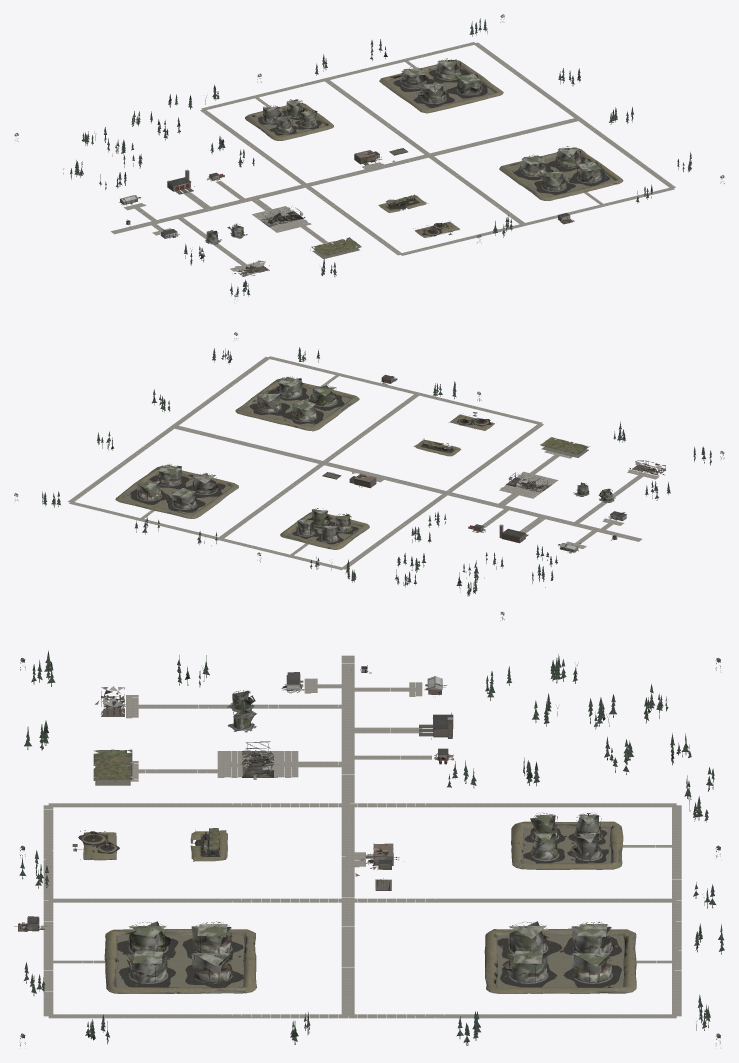
File: site_fuel_w_lo.glb
3 renders of one model, top to bottom at view 1: azimuth 30°, elevation 25°; view 2: azimuth 150°, elevation 25°; view 3: azimuth 270°, elevation 25°, orthographic. The views are drawn at different scales.
Parts seen in each view (by area): view 1: deco|tile_conc, deco|F_A, deco_trees|F_A; view 2: deco|tile_conc, deco|F_A, deco_trees|F_A; view 3: deco|tile_conc, deco|F_A, deco_trees|F_A, b_t4_ruin|F_B, b_t8_ruin|F_B, b_t6|F_A, b_t2|F_A, b_t3|F_A, b_rgs_ruin|F_B, b_t6_ruin|F_B, b_t2_ruin|F_B, b_t1|F_A (+11 smaller).
Part boxes in pixels (x1,y1,x2,y2): deco|tile_conc: (111,42,675,271); deco|F_A: (14,14,724,297); deco_trees|F_A: (63,18,691,296); deco|tile_conc: (68,356,659,570); deco|F_A: (14,332,724,619); deco_trees|F_A: (42,347,711,596); deco|tile_conc: (40,655,681,1018); deco|F_A: (20,658,720,1046); deco_trees|F_A: (19,650,724,1045); b_t4_ruin|F_B: (563,960,624,987); b_t8_ruin|F_B: (185,960,243,987); b_t6|F_A: (127,949,167,983); b_t2|F_A: (507,949,547,983); b_t3|F_A: (571,922,613,953); b_rgs_ruin|F_B: (190,831,227,861); b_t6_ruin|F_B: (119,960,175,987); b_t2_ruin|F_B: (500,960,556,987); b_t1|F_A: (508,921,547,951).
Size of the model in its own units: 578 by 20.98 by 442.
Materials: 69 (51 with a texture image).
